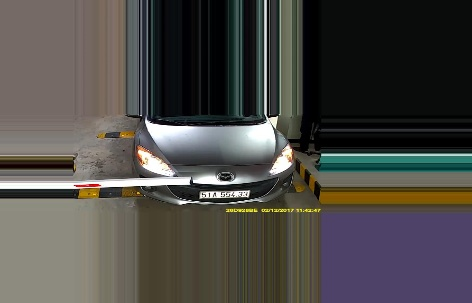plate: (199, 187, 250, 201)
